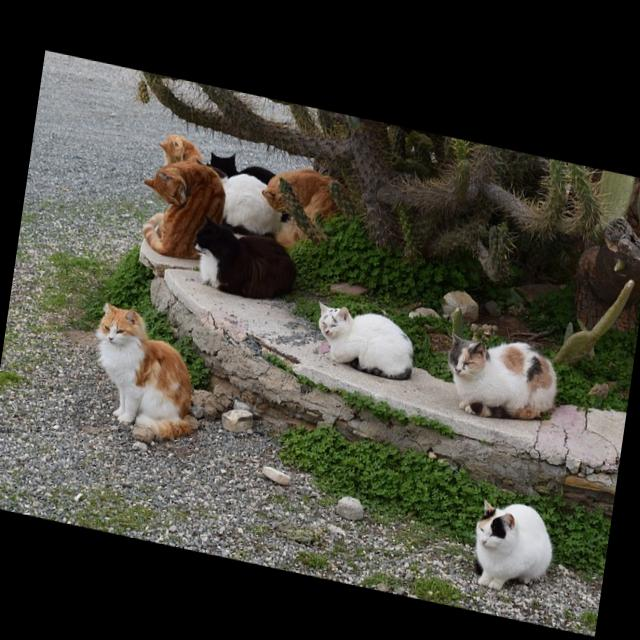animals: (94, 303, 199, 443), (142, 135, 226, 266), (448, 328, 558, 414), (194, 218, 297, 297), (471, 496, 554, 584), (318, 302, 415, 375), (261, 165, 348, 244), (210, 143, 272, 230)
